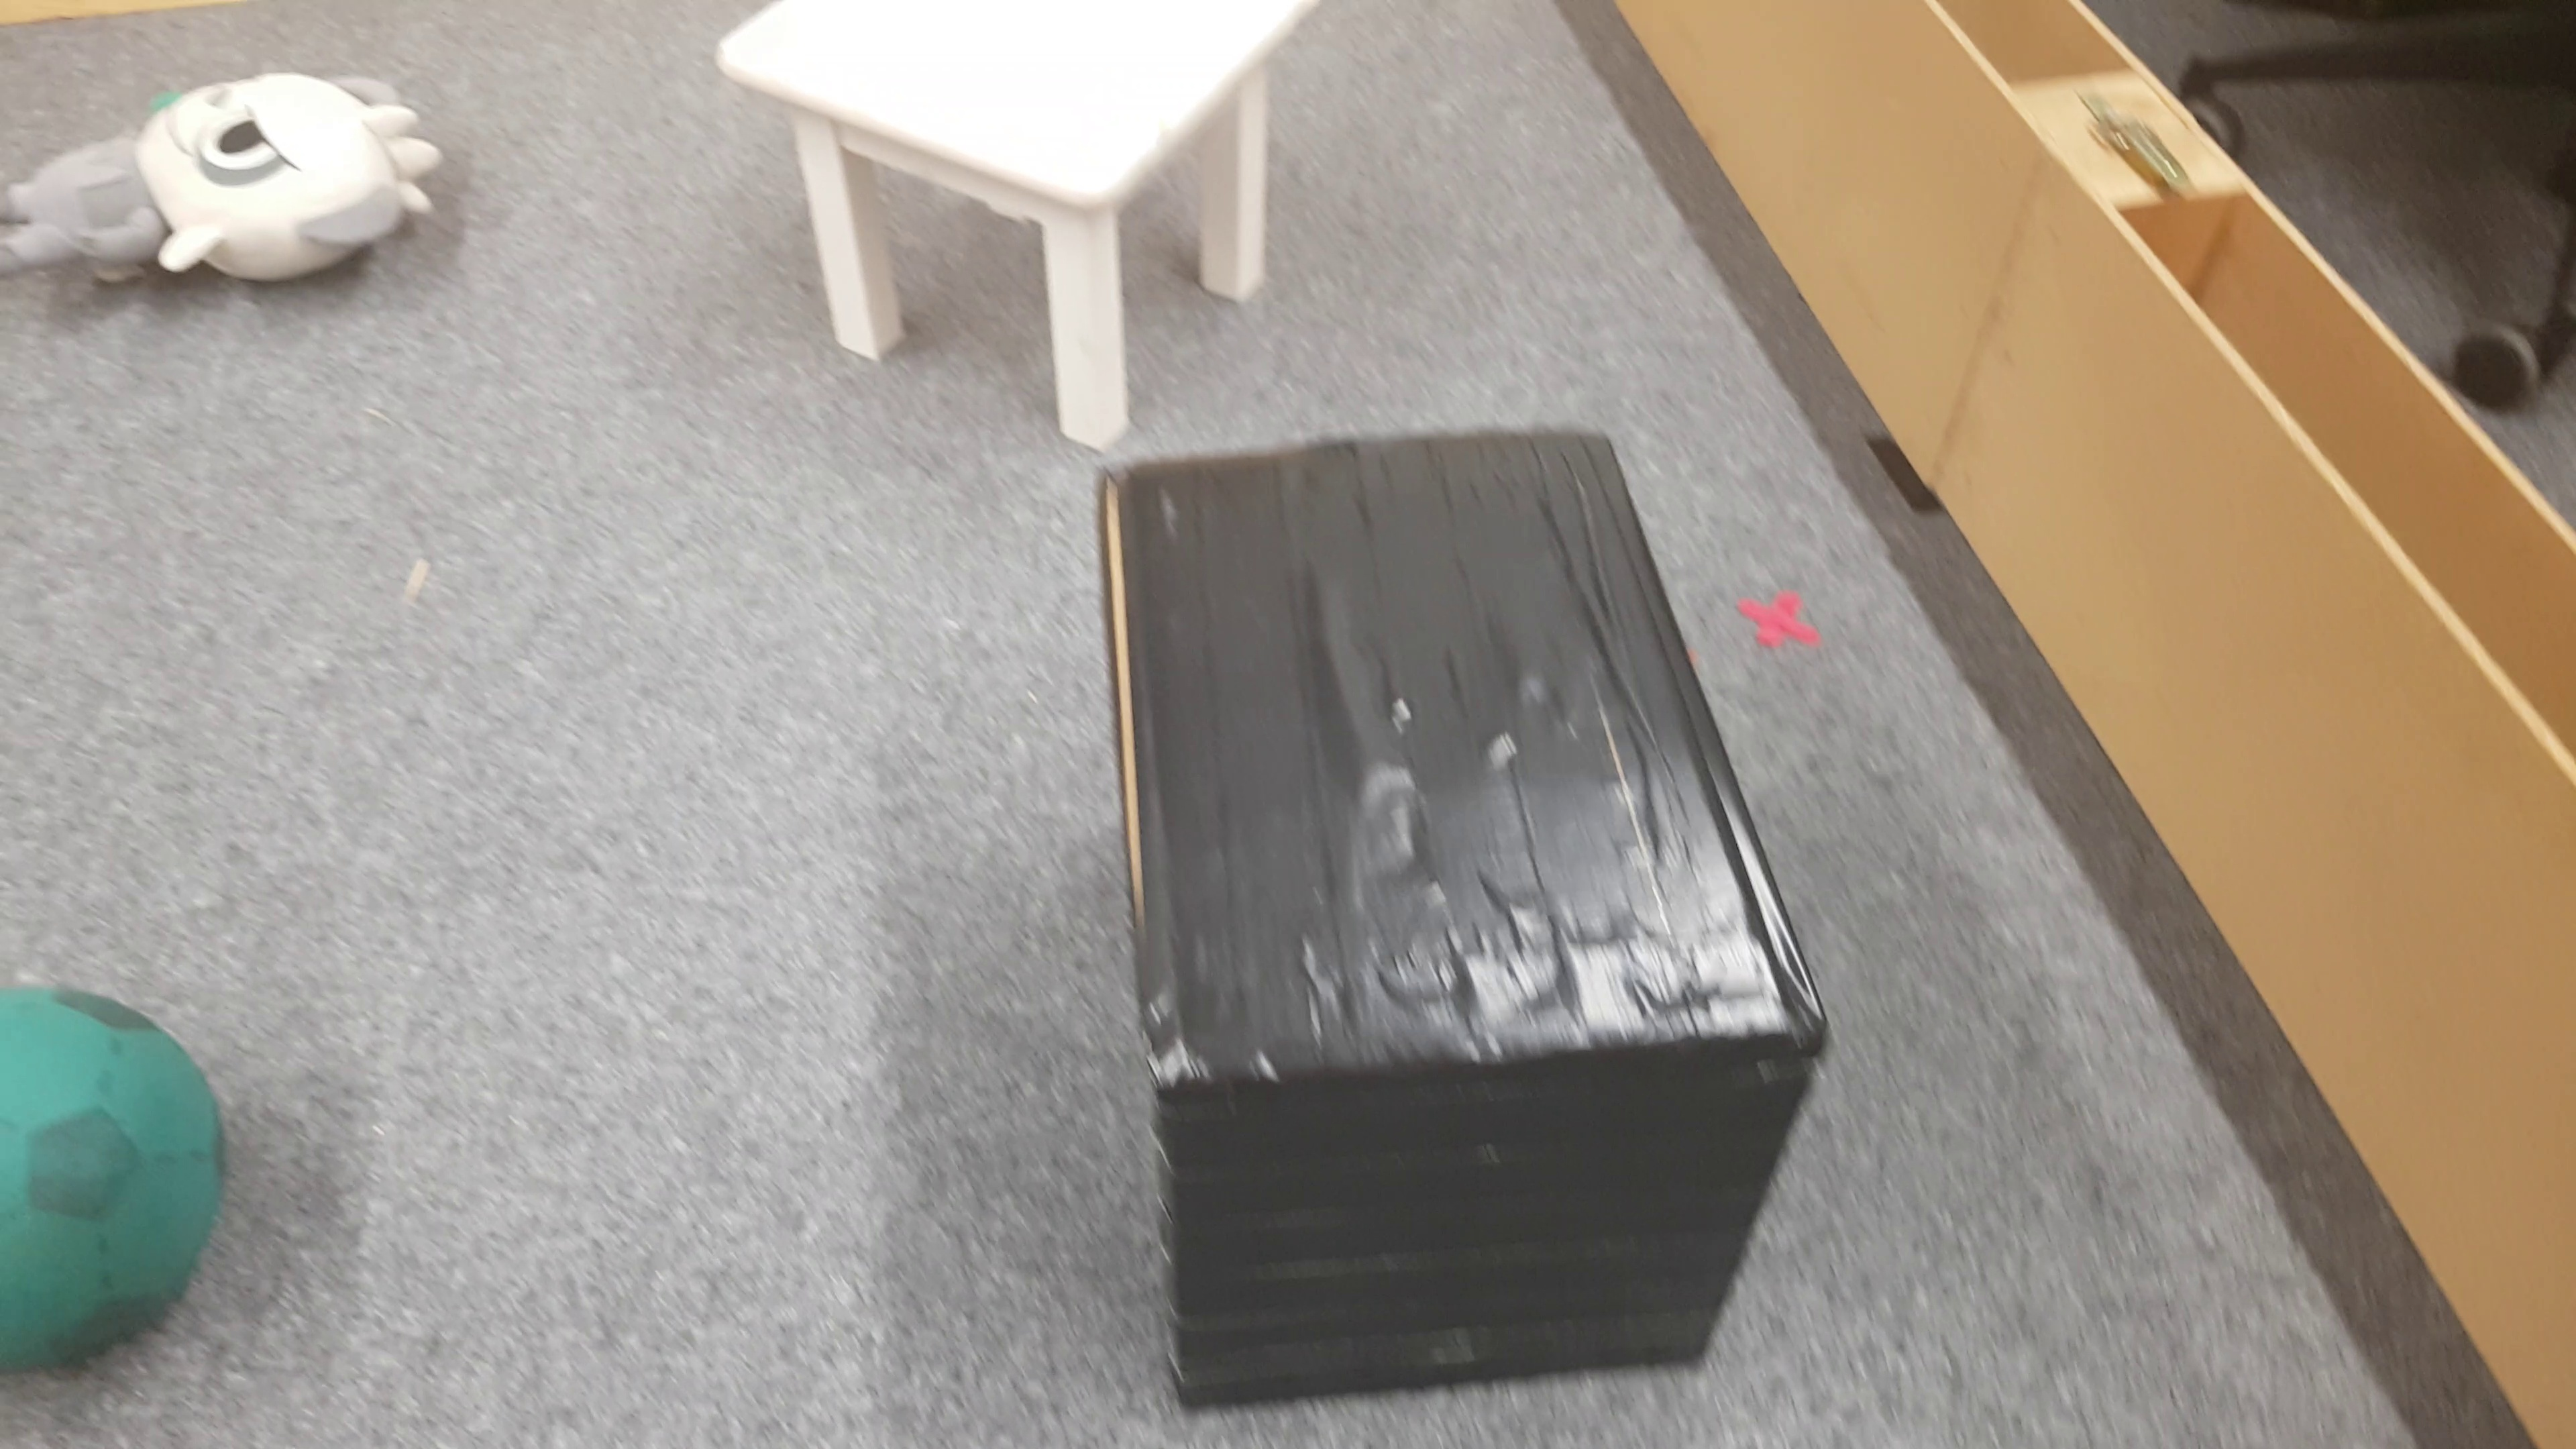grasp: (9, 64, 444, 310)
kick: (4, 971, 228, 1376)
push: (1090, 425, 1822, 1398)
